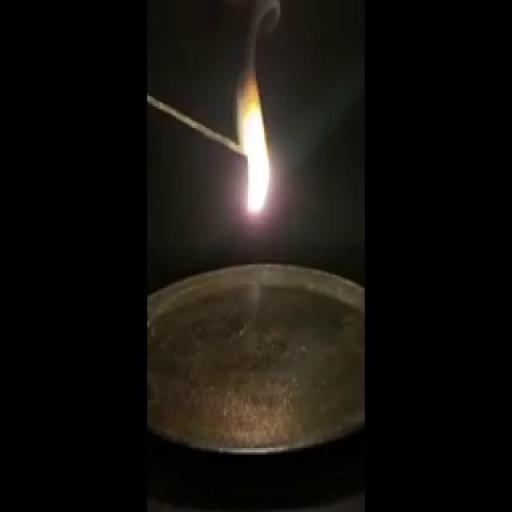smoke: (220, 52, 273, 226)
